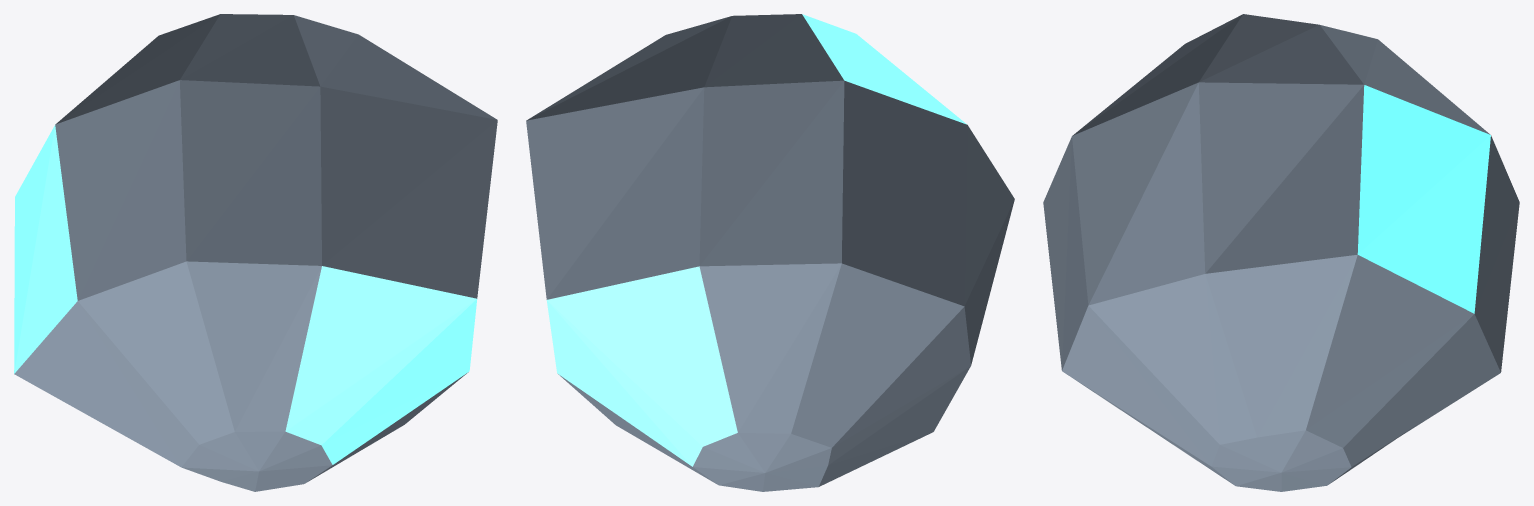
Rendered from cryo_shard.glb.
3 renders of one model, left to right at view 1: azimuth 30°, elevation 25°; view 2: azimuth 150°, elevation 25°; view 3: azimuth 270°, elevation 25°, orthographic.
Visible parts, largest first — view 1: Asteroid; view 2: Asteroid; view 3: Asteroid.
Part boxes in pixels (box(x1,y1,x2,y2)): Asteroid: box(14, 14, 497, 491); Asteroid: box(526, 14, 1014, 491); Asteroid: box(1043, 14, 1519, 491).
Bounding box in the file's own units: 2.15 × 2.05 × 2.01.
